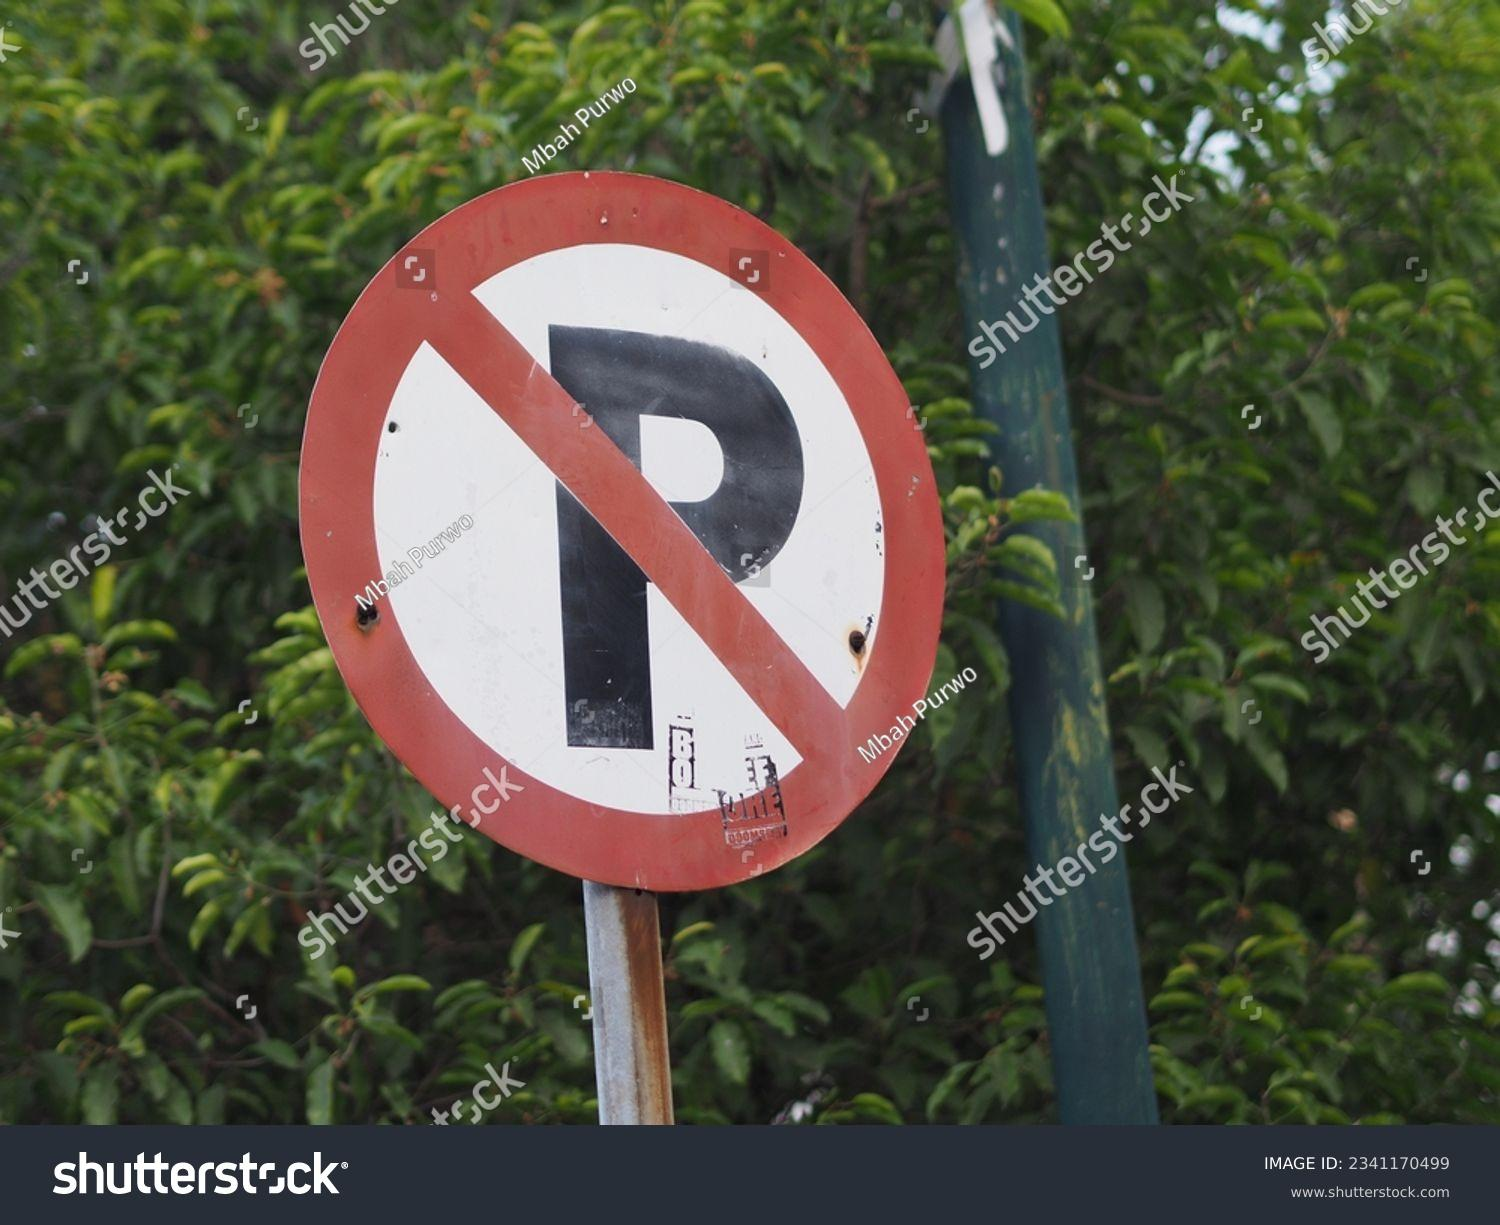No Parking: (255, 131, 973, 897)
